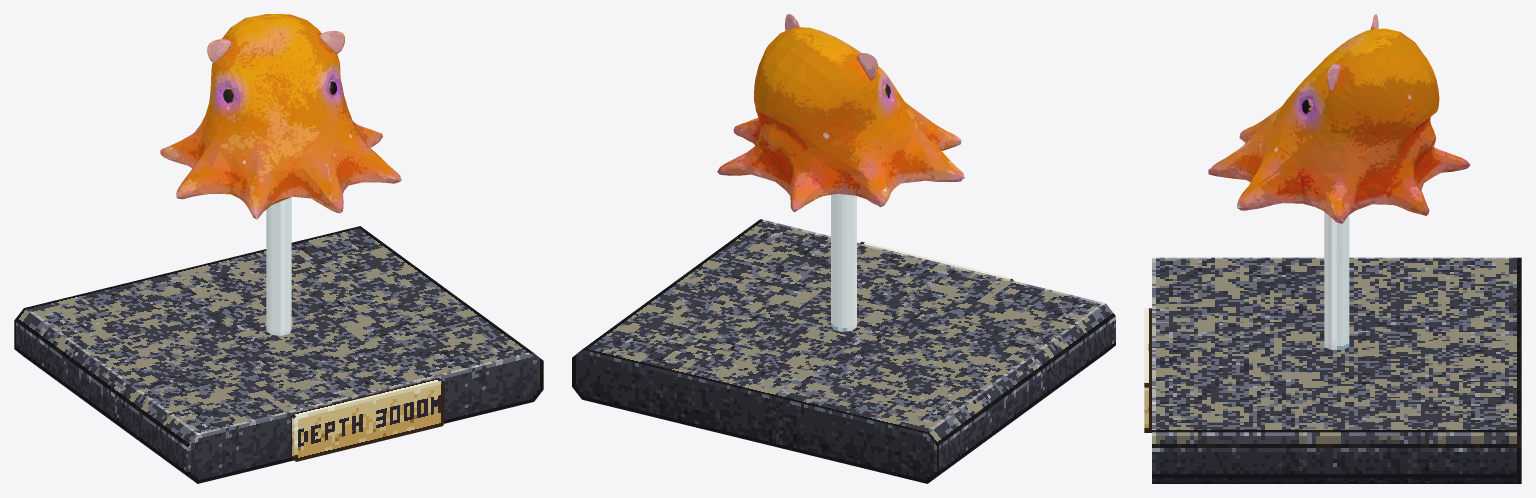
File: dumbo.glb
The picture shows the model from 3 angles, left to right: view 1: azimuth 30°, elevation 25°; view 2: azimuth 150°, elevation 25°; view 3: azimuth 270°, elevation 25°; orthographic projection. The views are drawn at different scales.
Parts seen in each view (by area): view 1: base, model_octo, plate, rod; view 2: base, model_octo, rod; view 3: base, model_octo, rod, plate.
Part boxes in pixels (<box>): base: <box>14,226,543,483</box>; model_octo: <box>160,14,401,219</box>; plate: <box>290,378,444,461</box>; rod: <box>266,197,291,335</box>; base: <box>572,219,1115,483</box>; model_octo: <box>717,14,964,212</box>; rod: <box>831,194,856,331</box>; base: <box>1152,257,1521,483</box>; model_octo: <box>1208,14,1470,223</box>; rod: <box>1324,212,1349,349</box>; plate: <box>1144,308,1151,432</box>.
Size of the model in its own units: 26 by 23.98 by 22.45.
2 materials, 2 textured.
